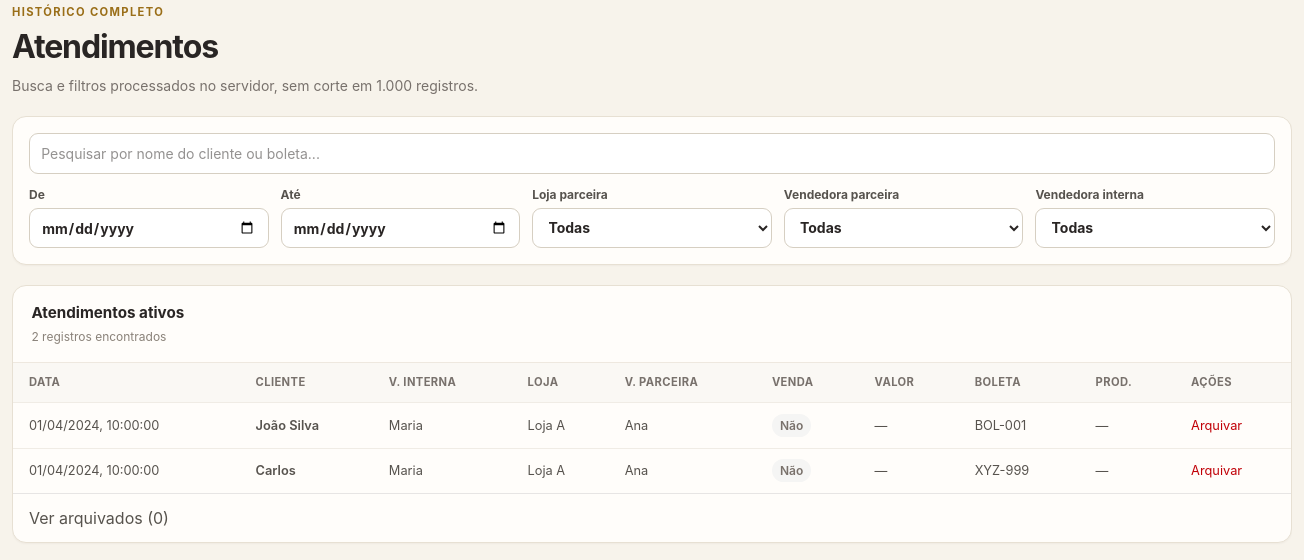
Test case: TabAtendimentos (PDV) › busca filtra por número de boleta
Check: the text "João Silva" is shown, box top-left (240, 402), bottom-right (373, 448)
Type "BOL-001" into the field with placeholder "Pesquisar por nome do cliente ou boleta..." at [652, 154], box top-left (29, 133), bottom-right (1275, 174)
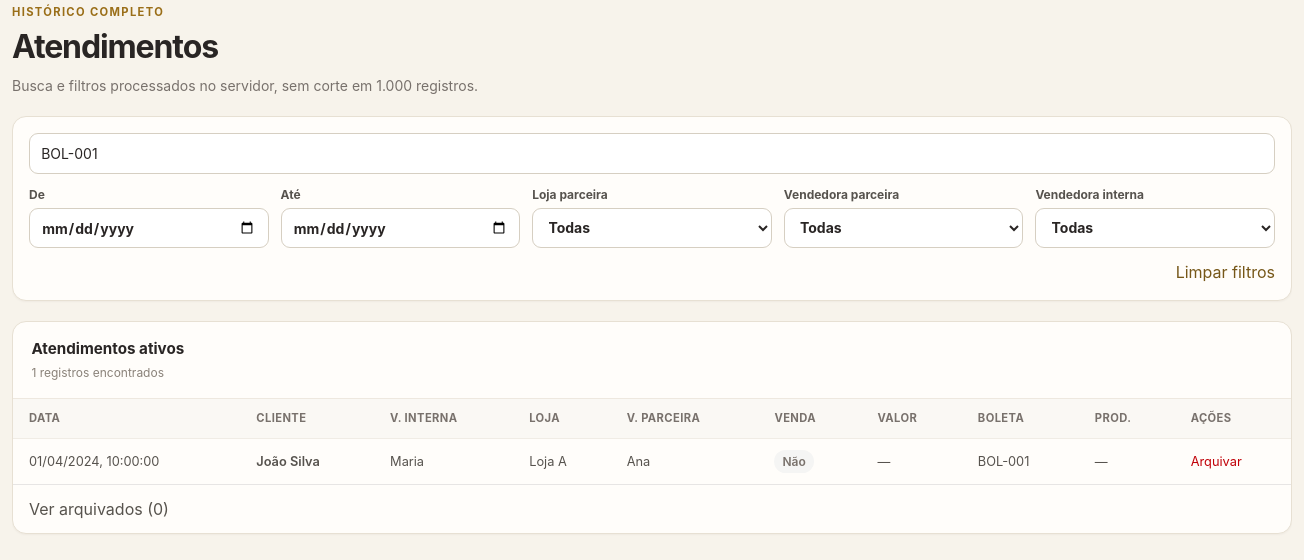
Check: the text "João Silva" is shown, box top-left (240, 438), bottom-right (374, 484)
Check: the text "Carlos" is gone
